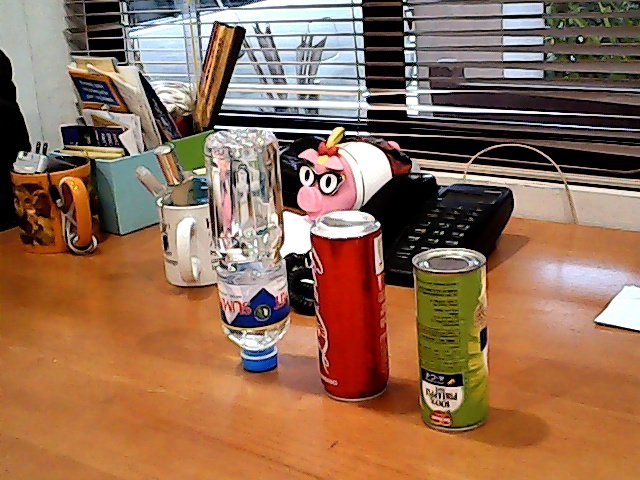Cola: (299, 202, 397, 405)
Pine Juice: (400, 233, 510, 442)
Summit Water: (195, 118, 299, 387)
